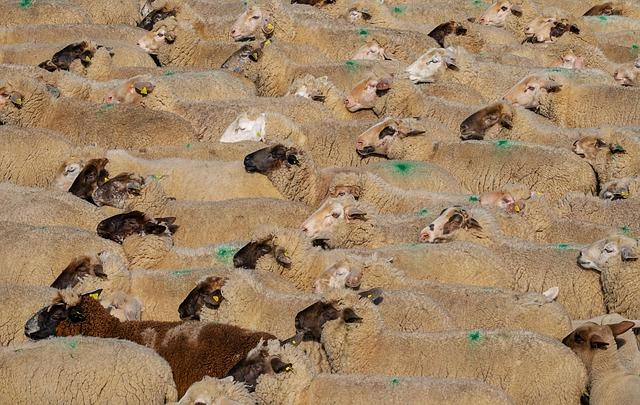Non_Gorille: (24, 0, 630, 405)
